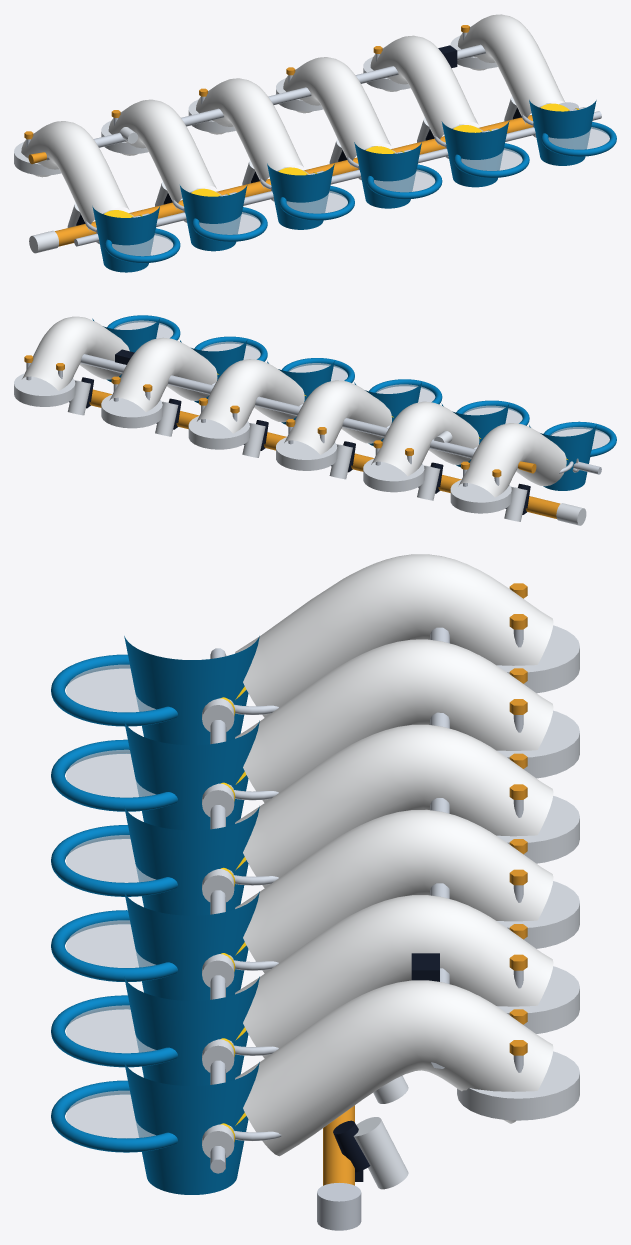
The model's file is intake-manifold-left.glb.
The picture shows the model from 3 angles, top to bottom: view 1: azimuth 30°, elevation 25°; view 2: azimuth 150°, elevation 25°; view 3: azimuth 270°, elevation 25°; orthographic projection. The views are drawn at different scales.
Visible parts, largest first — view 1: Ceramic_Intake_Runner_1, Ceramic_Intake_Runner_5, Ceramic_Intake_Runner_4, Ceramic_Intake_Runner_3, Ceramic_Intake_Runner_6, Ceramic_Intake_Runner_2, GDI_350Bar_Forged_Fuel_Rail, Cobalt_Velocity_Stack_2, Cobalt_Velocity_Stack_5, Cobalt_Velocity_Stack_6, Cobalt_Velocity_Stack_3, Cobalt_Velocity_Stack_1 (+22 smaller); view 2: Ceramic_Intake_Runner_1, Ceramic_Intake_Runner_4, Ceramic_Intake_Runner_3, Ceramic_Intake_Runner_5, Ceramic_Intake_Runner_2, Ceramic_Intake_Runner_6, Vacuum_Equalization_Balance_Rail, GDI_350Bar_Forged_Fuel_Rail, Cobalt_Velocity_Stack_1, Runner_Mating_Flange_Base_5, Runner_Mating_Flange_Base_2, Runner_Mating_Flange_Base_1 (+27 smaller); view 3: Ceramic_Intake_Runner_6, Ceramic_Intake_Runner_3, Ceramic_Intake_Runner_4, Ceramic_Intake_Runner_1, Ceramic_Intake_Runner_2, Ceramic_Intake_Runner_5, Cobalt_Velocity_Stack_6, Cobalt_Velocity_Stack_4, Cobalt_Velocity_Stack_5, Cobalt_Velocity_Stack_1, Cobalt_Velocity_Stack_3, Cobalt_Velocity_Stack_2 (+24 smaller).
Part boxes in pixels (x1=…): Ceramic_Intake_Runner_1: x1=21, y1=121, x2=129, y2=230; Ceramic_Intake_Runner_5: x1=370, y1=35, x2=478, y2=145; Ceramic_Intake_Runner_4: x1=283, y1=57, x2=390, y2=166; Ceramic_Intake_Runner_3: x1=196, y1=78, x2=303, y2=187; Ceramic_Intake_Runner_6: x1=458, y1=14, x2=565, y2=124; Ceramic_Intake_Runner_2: x1=108, y1=99, x2=216, y2=209; GDI_350Bar_Forged_Fuel_Rail: x1=55, y1=115, x2=532, y2=246; Cobalt_Velocity_Stack_2: x1=180, y1=185, x2=247, y2=251; Cobalt_Velocity_Stack_5: x1=441, y1=121, x2=509, y2=187; Cobalt_Velocity_Stack_6: x1=529, y1=100, x2=596, y2=165; Cobalt_Velocity_Stack_3: x1=267, y1=163, x2=334, y2=229; Cobalt_Velocity_Stack_1: x1=92, y1=206, x2=159, y2=272; Ceramic_Intake_Runner_1: x1=459, y1=423, x2=566, y2=497; Ceramic_Intake_Runner_4: x1=197, y1=359, x2=304, y2=433; Ceramic_Intake_Runner_3: x1=284, y1=380, x2=391, y2=454; Ceramic_Intake_Runner_5: x1=109, y1=337, x2=217, y2=412; Ceramic_Intake_Runner_2: x1=371, y1=401, x2=479, y2=476; Ceramic_Intake_Runner_6: x1=22, y1=316, x2=129, y2=390; Vacuum_Equalization_Balance_Rail: x1=80, y1=354, x2=518, y2=469; GDI_350Bar_Forged_Fuel_Rail: x1=89, y1=389, x2=560, y2=518; Cobalt_Velocity_Stack_1: x1=529, y1=425, x2=596, y2=490; Runner_Mating_Flange_Base_5: x1=101, y1=394, x2=162, y2=428; Runner_Mating_Flange_Base_2: x1=363, y1=458, x2=424, y2=492; Runner_Mating_Flange_Base_1: x1=450, y1=480, x2=511, y2=513; Ceramic_Intake_Runner_6: x1=235, y1=980, x2=553, y2=1156; Ceramic_Intake_Runner_3: x1=235, y1=724, x2=553, y2=887; Ceramic_Intake_Runner_4: x1=235, y1=809, x2=553, y2=973; Ceramic_Intake_Runner_1: x1=235, y1=554, x2=553, y2=717; Ceramic_Intake_Runner_2: x1=235, y1=639, x2=553, y2=802; Ceramic_Intake_Runner_5: x1=235, y1=895, x2=553, y2=1058; Cobalt_Velocity_Stack_6: x1=124, y1=1062, x2=259, y2=1194; Cobalt_Velocity_Stack_4: x1=124, y1=891, x2=259, y2=1000; Cobalt_Velocity_Stack_5: x1=124, y1=976, x2=259, y2=1085; Cobalt_Velocity_Stack_1: x1=124, y1=636, x2=259, y2=745; Cobalt_Velocity_Stack_3: x1=124, y1=806, x2=259, y2=915; Cobalt_Velocity_Stack_2: x1=124, y1=720, x2=259, y2=830.
Bounding box in the file's own units: 0.623 × 0.1135 × 0.2625.
